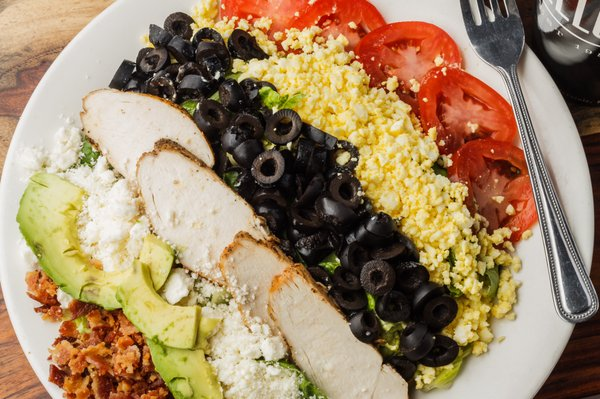sushi: (1, 1, 590, 392)
